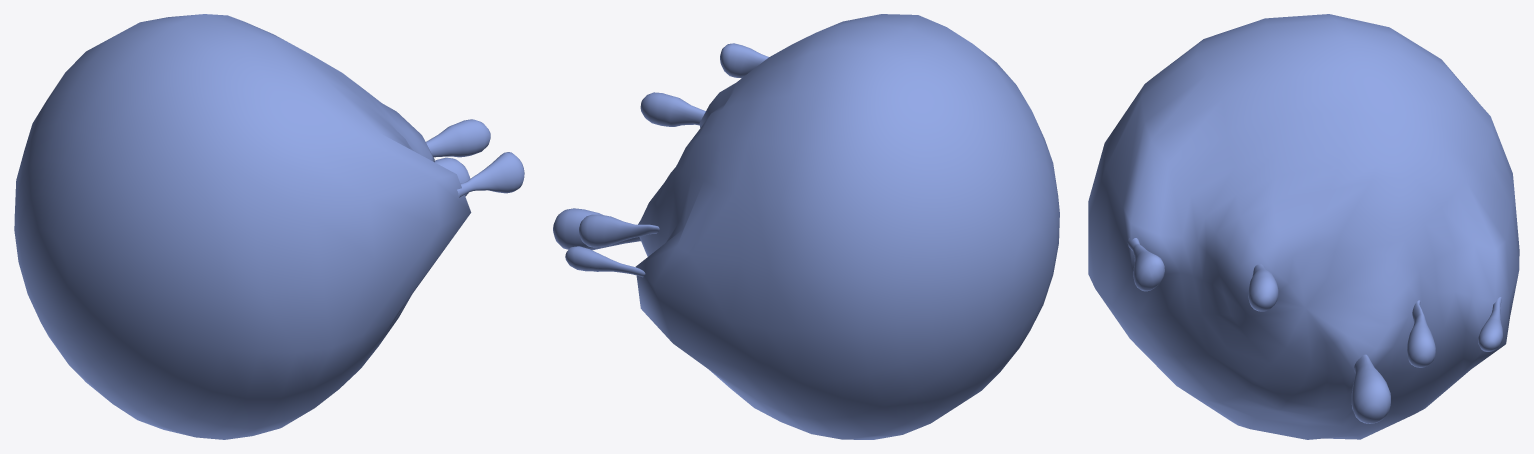
Rendered from bullet_blue.fbx.
The picture shows the model from 3 angles, left to right: view 1: azimuth 30°, elevation 25°; view 2: azimuth 150°, elevation 25°; view 3: azimuth 270°, elevation 25°; orthographic projection. The views are drawn at different scales.
Visible parts, largest first — view 1: pasted__pasted__pasted__polySurface21; view 2: pasted__pasted__pasted__polySurface21; view 3: pasted__pasted__pasted__polySurface21.
Boxes of the visible parts, <box> form: pasted__pasted__pasted__polySurface21: <box>14,14,524,439</box>; pasted__pasted__pasted__polySurface21: <box>553,14,1059,439</box>; pasted__pasted__pasted__polySurface21: <box>1088,14,1519,439</box>.
Size of the model in its own units: 2.26 by 1.88 by 1.87.
